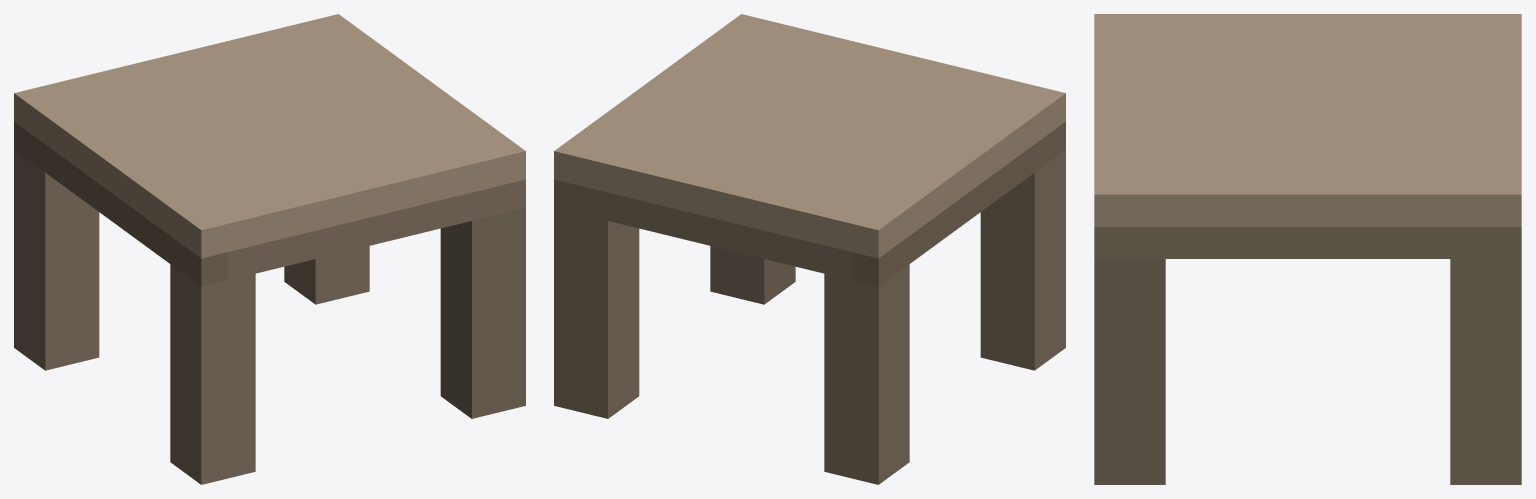
Rendered from mesa_costura_pieles_desgastada_01.glb.
3 renders of one model, left to right at view 1: azimuth 30°, elevation 25°; view 2: azimuth 150°, elevation 25°; view 3: azimuth 270°, elevation 25°, orthographic. The views are drawn at different scales.
Visible parts, largest first — view 1: mesa_costura_pieles_desgastada; view 2: mesa_costura_pieles_desgastada; view 3: mesa_costura_pieles_desgastada.
Boxes of the visible parts, <box> form: mesa_costura_pieles_desgastada: <box>14,14,525,484</box>; mesa_costura_pieles_desgastada: <box>554,14,1065,484</box>; mesa_costura_pieles_desgastada: <box>1094,14,1521,484</box>.
Size of the model in its own units: 1 by 0.75 by 1.
